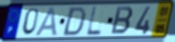0: (20, 8, 40, 37)
4: (133, 5, 151, 36)
A: (34, 7, 59, 38)
B: (110, 6, 135, 36)
D: (61, 6, 88, 37)
L: (85, 6, 102, 37)
